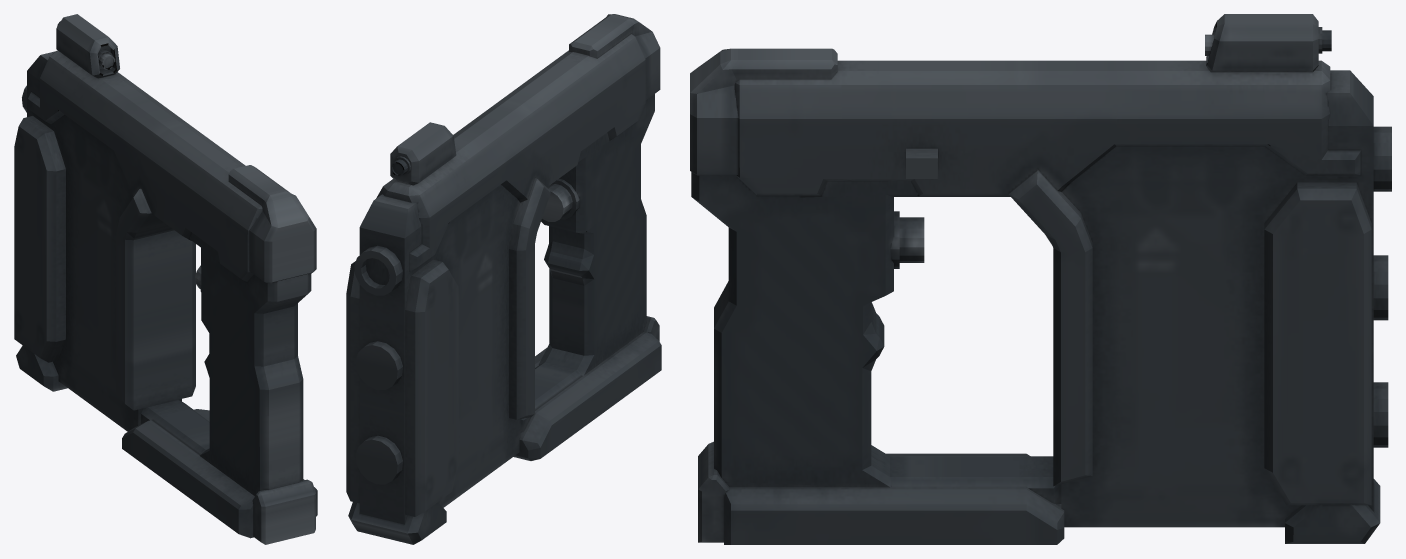
Rendered from smg_t3.glb.
3 renders of one model, left to right at view 1: azimuth 30°, elevation 25°; view 2: azimuth 150°, elevation 25°; view 3: azimuth 270°, elevation 25°, orthographic. The views are drawn at different scales.
Visible parts, largest first — view 1: smg_t3; view 2: smg_t3; view 3: smg_t3, ChargingHandle.
Part boxes in pixels (x1,y1,x2,y2): smg_t3: (14, 14, 317, 544); smg_t3: (346, 14, 661, 544); smg_t3: (690, 14, 1391, 544); ChargingHandle: (906, 148, 937, 178).
Size of the model in its own units: 0.0995 by 0.4271 by 0.5355.
Materials: 1 (1 with a texture image).
